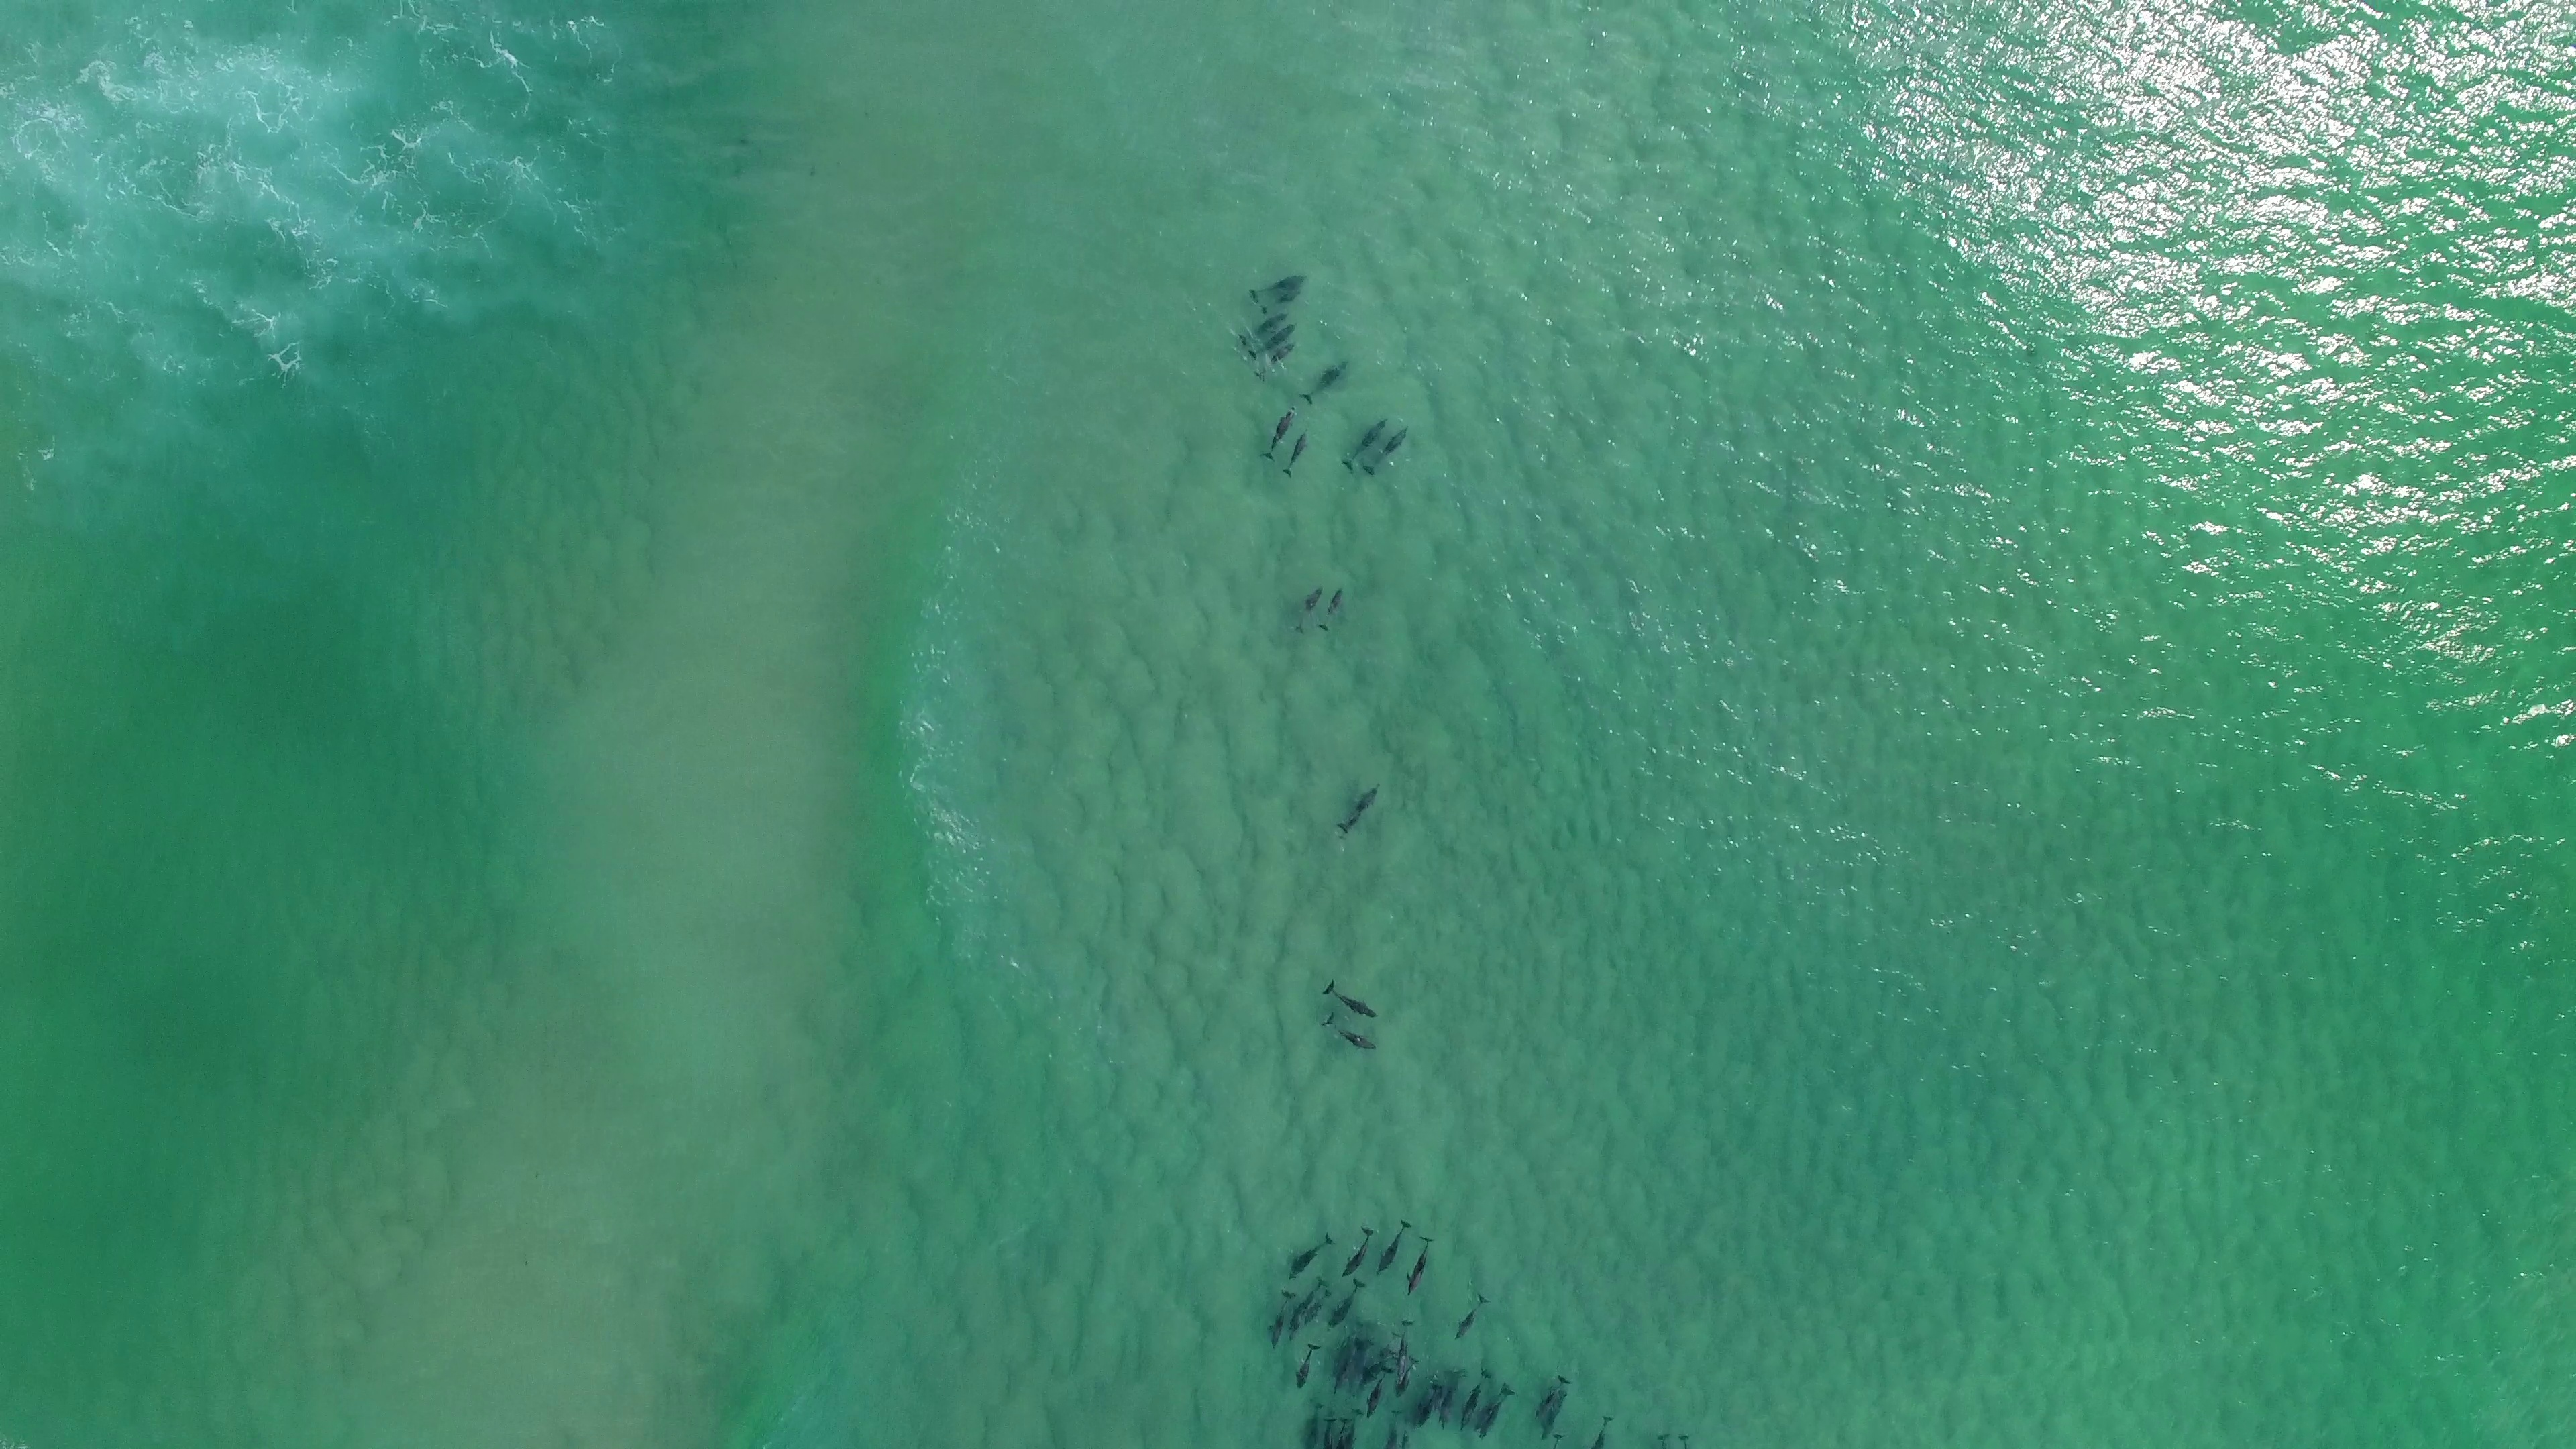dolphin: (1338, 782, 1382, 842), (1343, 418, 1391, 472), (1286, 1276, 1327, 1339), (1364, 425, 1412, 476), (1284, 1231, 1336, 1279), (1323, 977, 1380, 1019), (1261, 405, 1302, 464), (1246, 322, 1300, 364), (1375, 1219, 1414, 1276), (1302, 359, 1348, 405), (1339, 1226, 1378, 1279), (1474, 1385, 1513, 1438), (1460, 1368, 1491, 1431), (1405, 1237, 1438, 1297), (1254, 340, 1297, 384), (1322, 1014, 1375, 1049), (1238, 310, 1288, 347), (1329, 1279, 1366, 1329), (1249, 271, 1309, 301), (1453, 1293, 1490, 1341), (1267, 1288, 1297, 1346), (1281, 426, 1313, 481), (1332, 1336, 1362, 1392), (1292, 586, 1325, 635), (1438, 1369, 1467, 1426), (1534, 1375, 1569, 1419), (1364, 1368, 1392, 1421), (1292, 1345, 1322, 1389), (1417, 1376, 1444, 1426), (1394, 1320, 1415, 1380), (1541, 1391, 1568, 1437), (1315, 589, 1343, 632), (1260, 288, 1302, 315), (1302, 1290, 1332, 1325), (1399, 1357, 1419, 1392)
